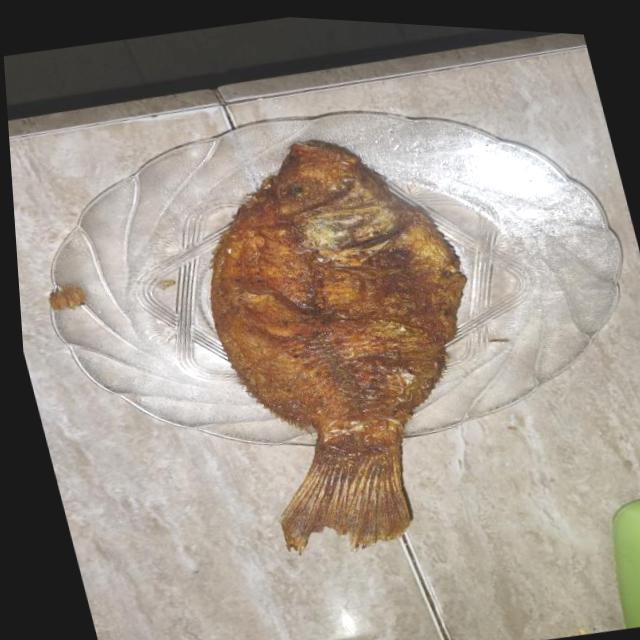ikan_mujair: (210, 140, 464, 552)
